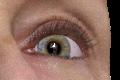eye: (39, 35, 71, 57)
